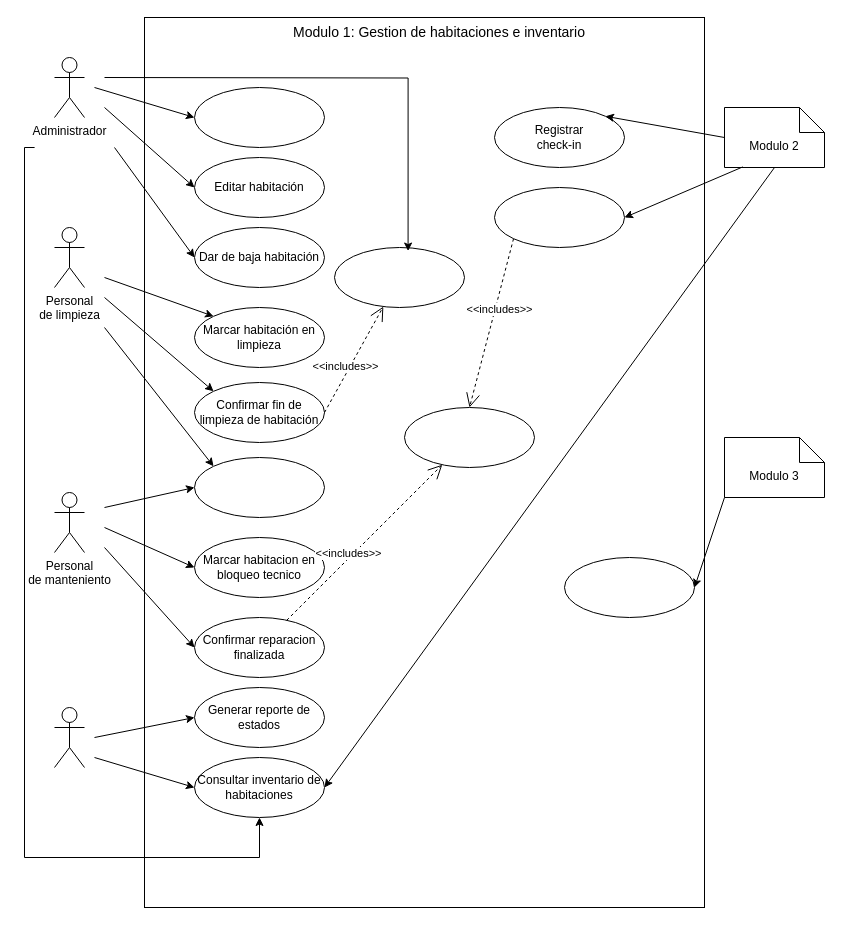
Image size: 842x925. Some labels were removed from this diagram. Each missing label, with the centre of its shape:
Consultar tarifa base: point 629,587
Gerente: point 69,737
Marcar habitación como disponible: point 399,277
Marcar habitación inhabilitada por reparaciones: point 259,487
Marcar pendiente a limpieza: point 469,437
Registrar check-out: point 559,217
Registrar habitación: point 259,117
